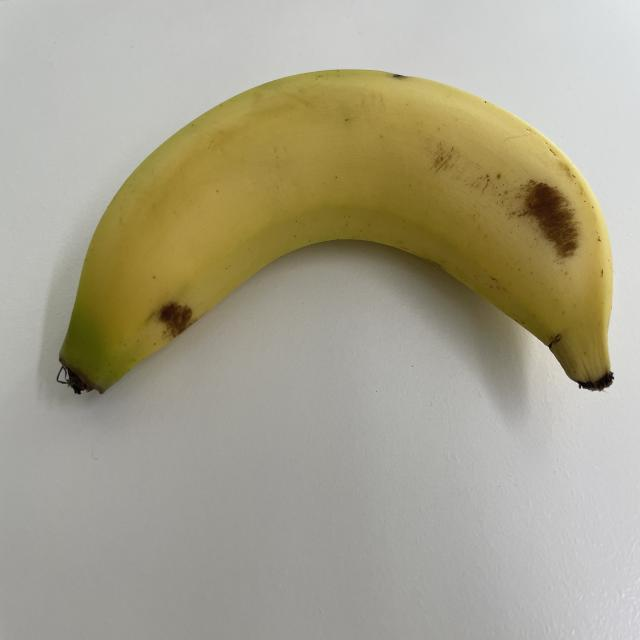Banana: (55, 60, 619, 415)
